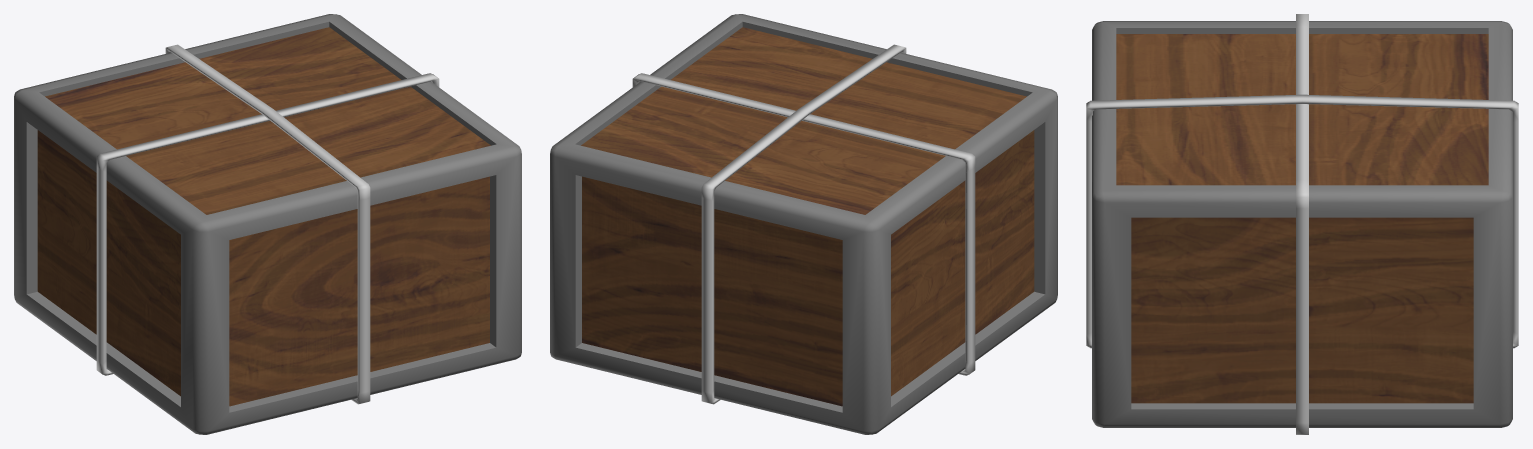
The model's file is GB_134_crate.glb.
The picture shows the model from 3 angles, left to right: view 1: azimuth 30°, elevation 25°; view 2: azimuth 150°, elevation 25°; view 3: azimuth 270°, elevation 25°; orthographic projection. The views are drawn at different scales.
Parts seen in each view (by area): view 1: crate, crate_rope; view 2: crate, crate_rope; view 3: crate, crate_rope.
Boxes of the visible parts, left/top/right/bottom form: crate: left=14, top=14, right=521, bottom=434; crate_rope: left=96, top=44, right=439, bottom=404; crate: left=550, top=14, right=1057, bottom=434; crate_rope: left=632, top=44, right=975, bottom=404; crate: left=1092, top=21, right=1512, bottom=427; crate_rope: left=1086, top=14, right=1518, bottom=434.
Size of the model in its own units: 1.25 by 0.8082 by 1.25.
Materials: 3 (1 with a texture image).
